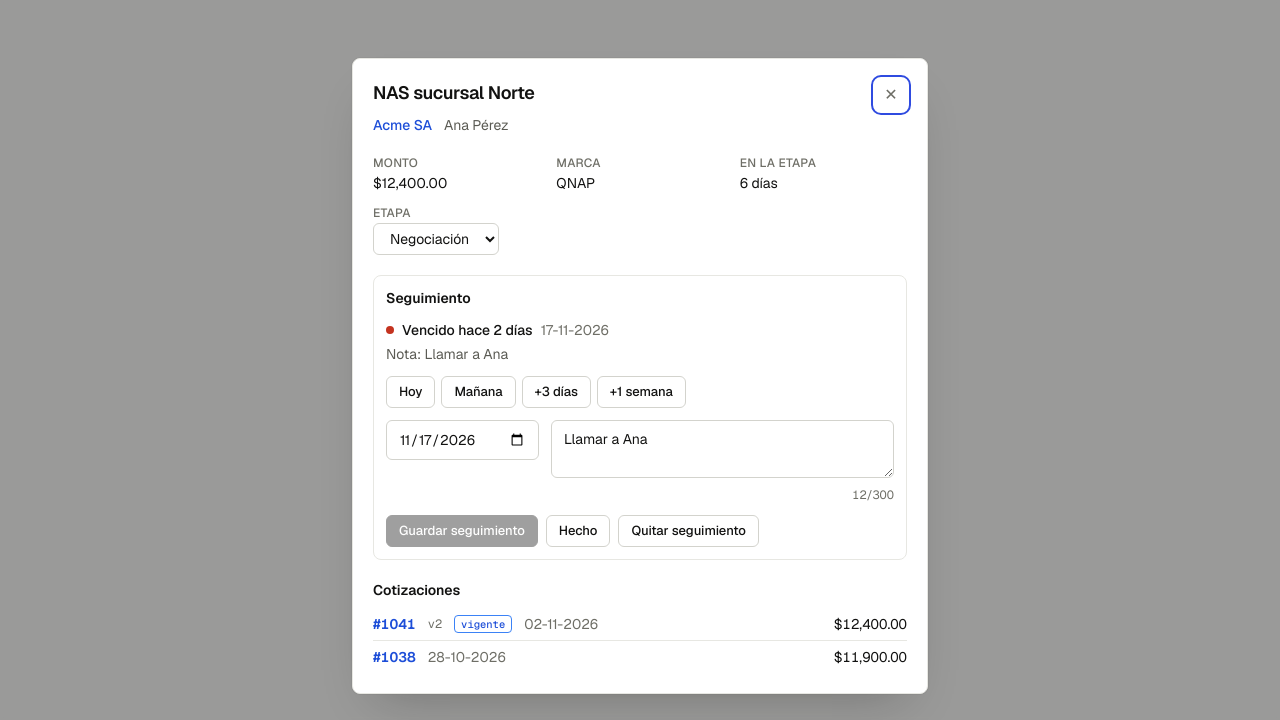
OportunidadPanel › etapa › al perder, el panel deja de ofrecer el seguimiento al instante
The width and height of the screenshot is (1280, 720).
Expected: the dialog "NAS sucursal Norte" is shown, [352,58,928,694]
Expected: the heading "Seguimiento" is shown, [386,289,471,307]
Select "Ganada" in the dropdown named "Etapa de NAS sucursal Norte". click: (436, 239)
box: [373,223,499,255]
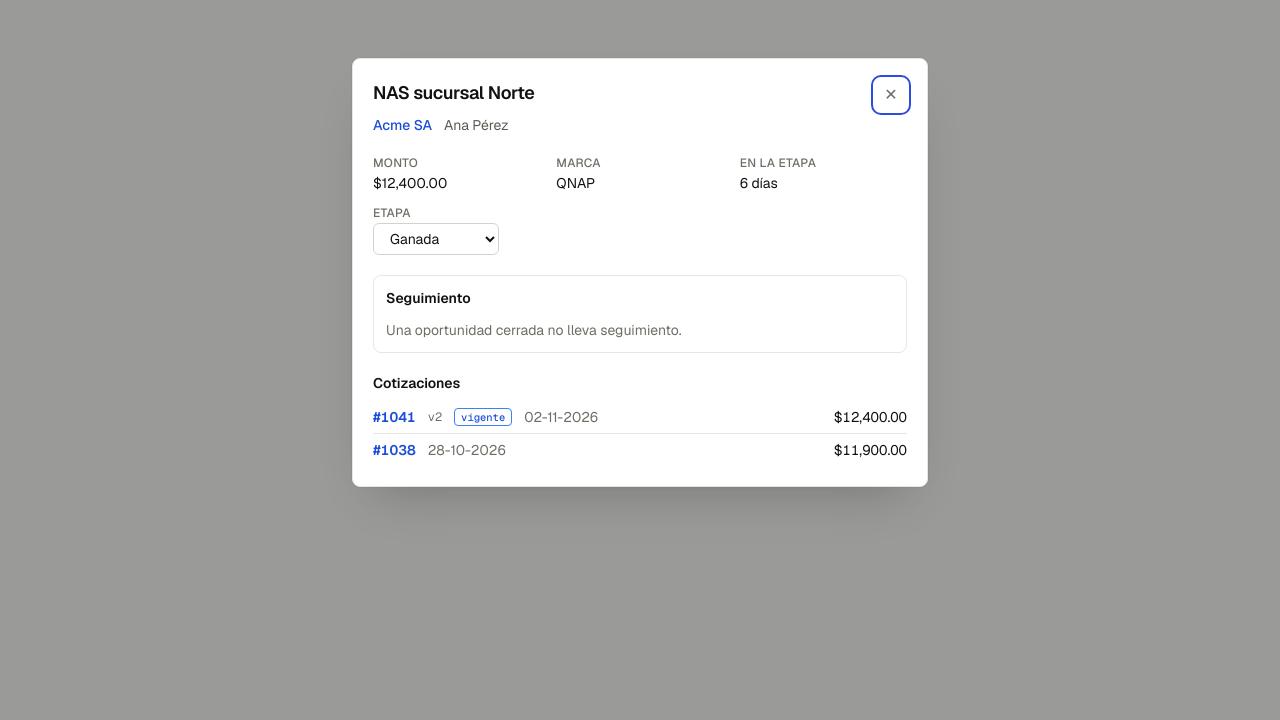
Expected: the text "Una oportunidad cerrada no lleva seguimiento." is shown, [386,321,682,339]
